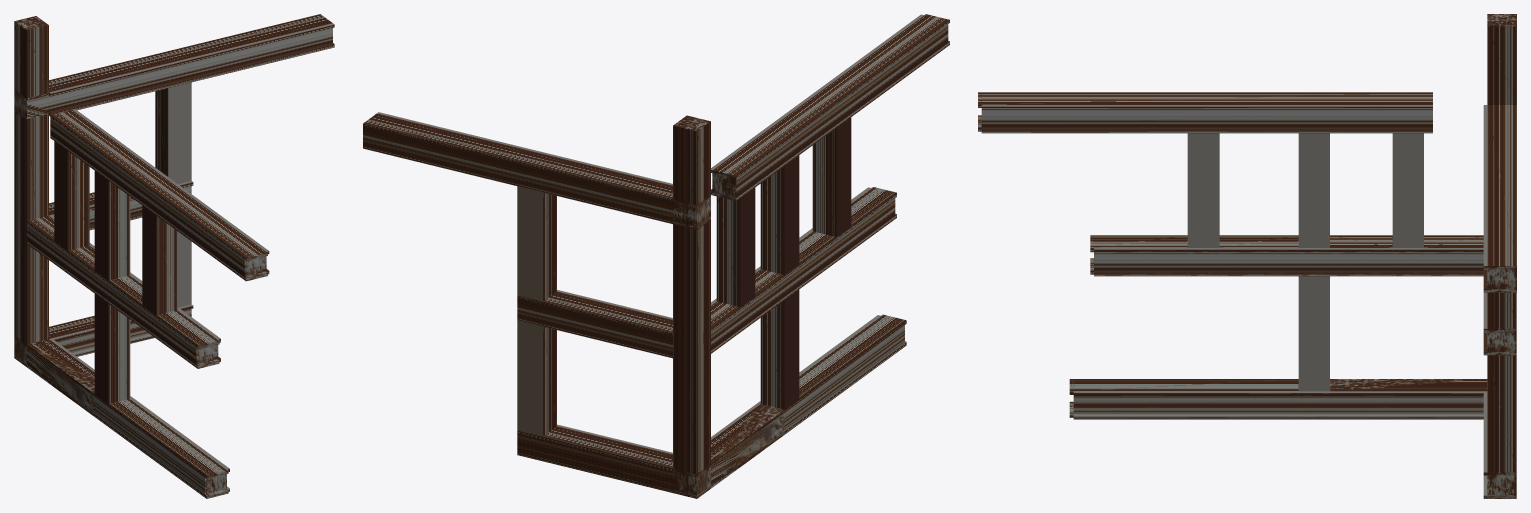
The model's file is rustyMetal.obj.
3 views of the same model, side by side, from view 1: azimuth 30°, elevation 25°; view 2: azimuth 150°, elevation 25°; view 3: azimuth 270°, elevation 25° (orthographic). The views are drawn at different scales.
Parts seen in each view (by area): view 1: rustyMetal_1; view 2: rustyMetal_1; view 3: rustyMetal_1.
Boxes of the visible parts, <box> form: rustyMetal_1: <box>14,14,334,498</box>; rustyMetal_1: <box>363,14,949,498</box>; rustyMetal_1: <box>978,14,1516,498</box>.
Bounding box in the file's own units: 41.78 × 43.94 × 54.81.
